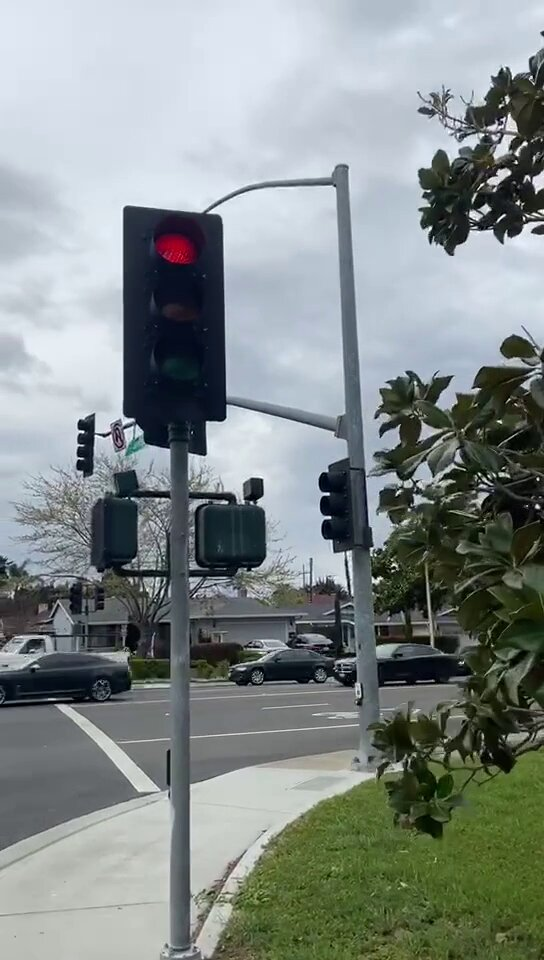red_light: (127, 216, 223, 417)
